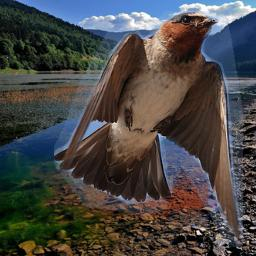Swallow: (54, 11, 243, 247)
